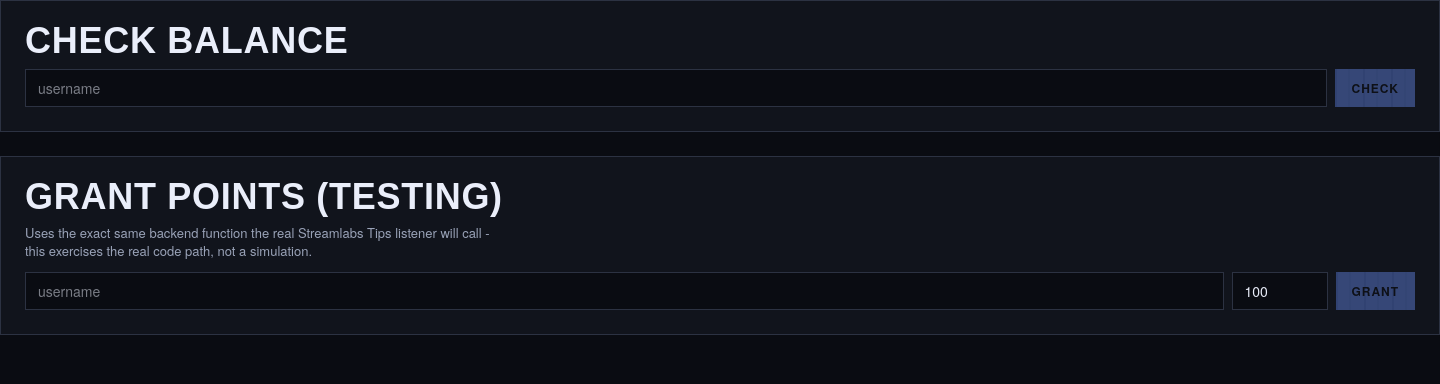
Test: PointsTool › says so rather than showing a zero when the backend can't report a total
The image size is (1440, 384).
Type "someviewer" into the field with placeholder "username" below "Grant Points (testing)".
click(624, 291); type("someviewer")  # box [25,272,1224,310]
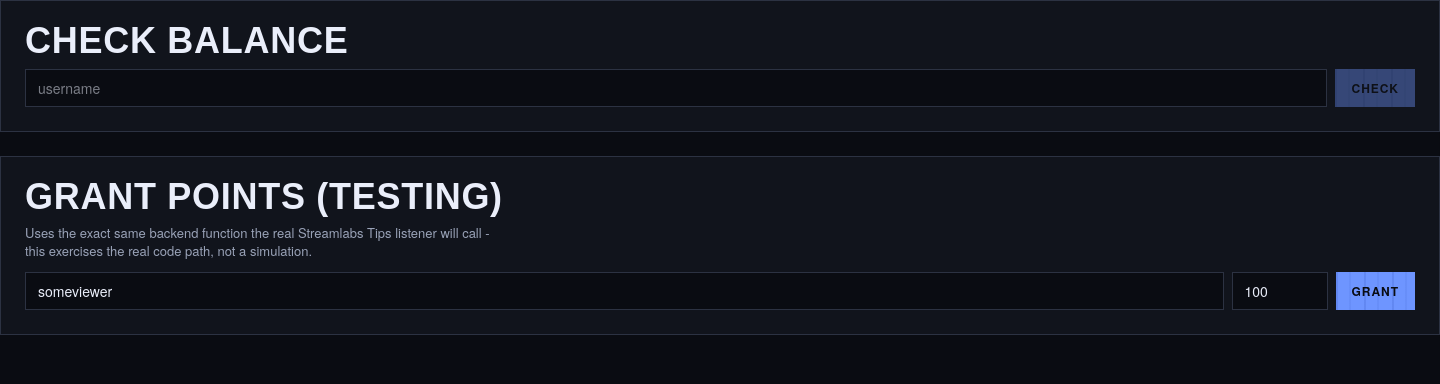
Click the button "Grant".
click(1375, 291)  # box [1336,272,1415,310]
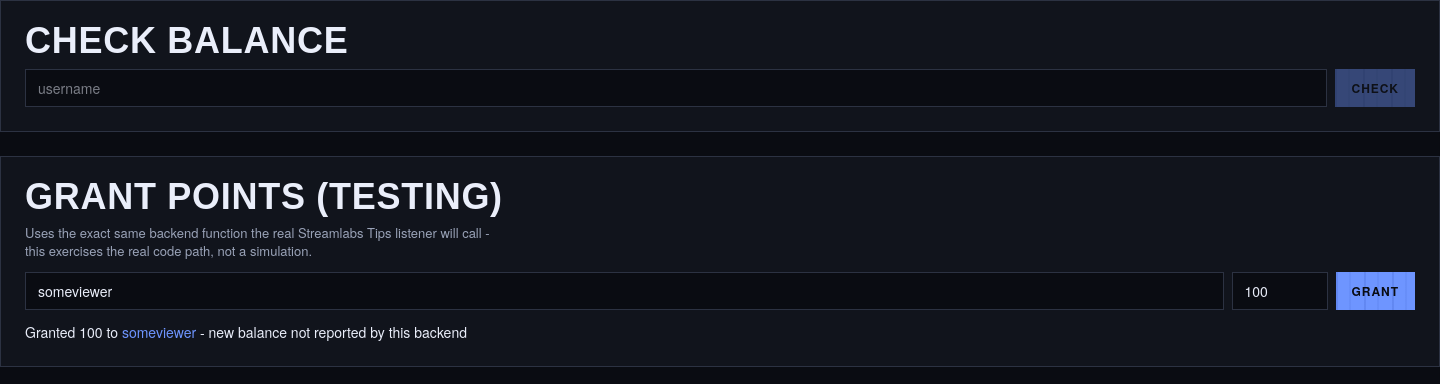
Now the text "Granted 100" is shown, box [25,322,467,342]
Now the text "not reported by this backend" is shown, box [196,322,467,342]
